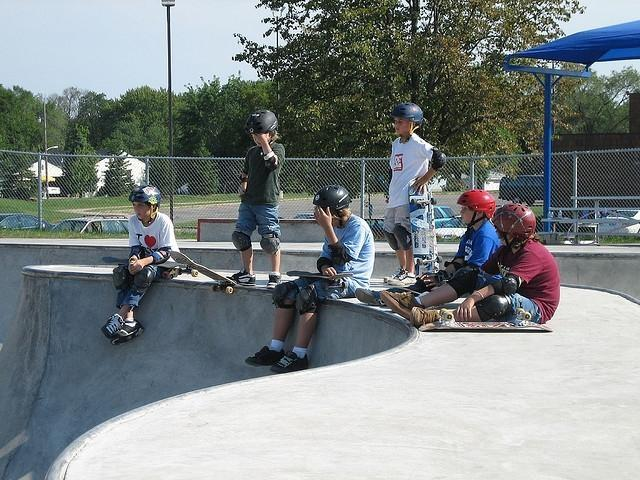car: (50, 217, 128, 234), (598, 210, 640, 234), (0, 216, 52, 231), (434, 206, 460, 228), (364, 219, 386, 241)
